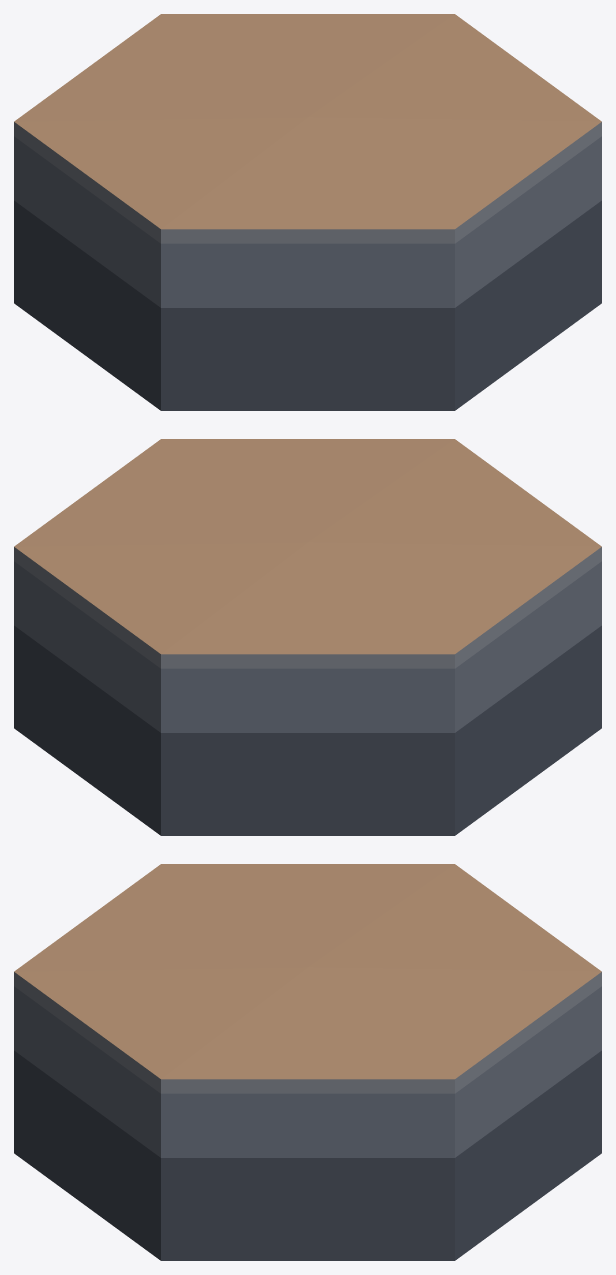
The model's file is AW-HEX-XMAS-PATH-v0.1.glb.
3 renders of one model, top to bottom at view 1: azimuth 30°, elevation 25°; view 2: azimuth 150°, elevation 25°; view 3: azimuth 270°, elevation 25°, orthographic.
Visible parts, largest first — view 1: AW-HEX-XMAS-PATH-v01; view 2: AW-HEX-XMAS-PATH-v01; view 3: AW-HEX-XMAS-PATH-v01.
Part boxes in pixels (x1,y1,x2,y2): AW-HEX-XMAS-PATH-v01: [14, 14, 601, 410]; AW-HEX-XMAS-PATH-v01: [14, 439, 601, 835]; AW-HEX-XMAS-PATH-v01: [14, 864, 601, 1260].
Bounding box in the file's own units: 3.81 × 1.54 × 4.4.
